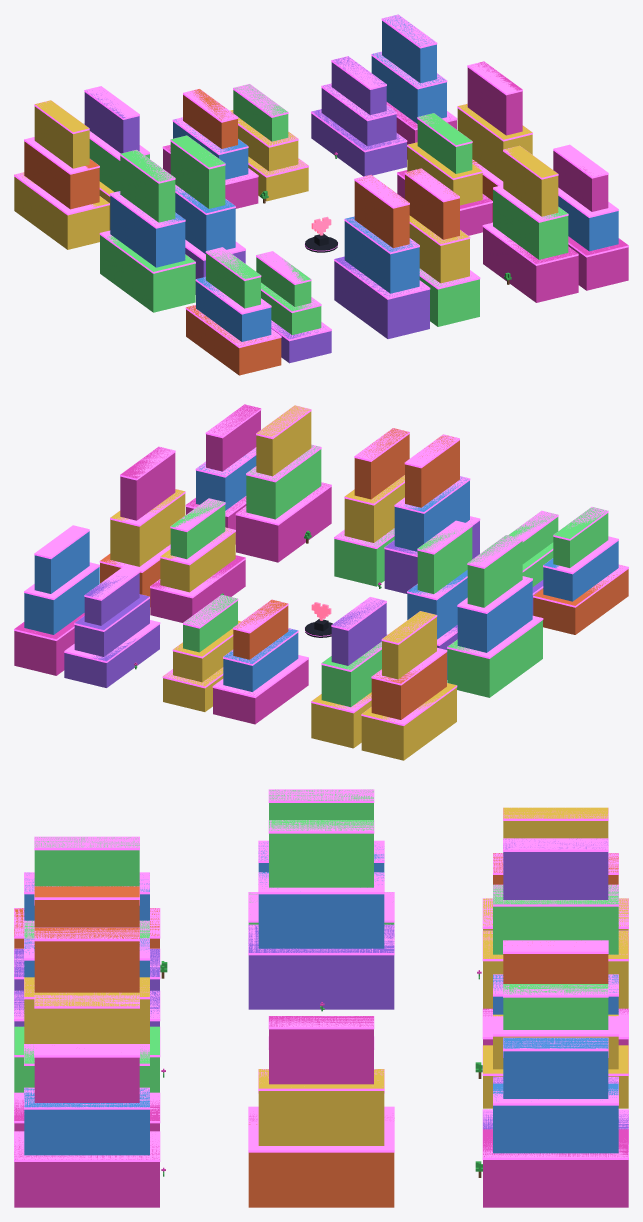
3 renders of one model, top to bottom at view 1: azimuth 30°, elevation 25°; view 2: azimuth 150°, elevation 25°; view 3: azimuth 270°, elevation 25°, orthographic. The views are drawn at different scales.
Visible parts, largest first — view 1: district_city_pixel.lod1; view 2: district_city_pixel.lod1; view 3: district_city_pixel.lod1.
Part boxes in pixels (bbox=[...]): district_city_pixel.lod1: bbox=[14, 14, 628, 375]; district_city_pixel.lod1: bbox=[14, 404, 628, 760]; district_city_pixel.lod1: bbox=[14, 789, 628, 1207].
Bounding box in the file's own units: 97.1 × 29.96 × 97.1.
